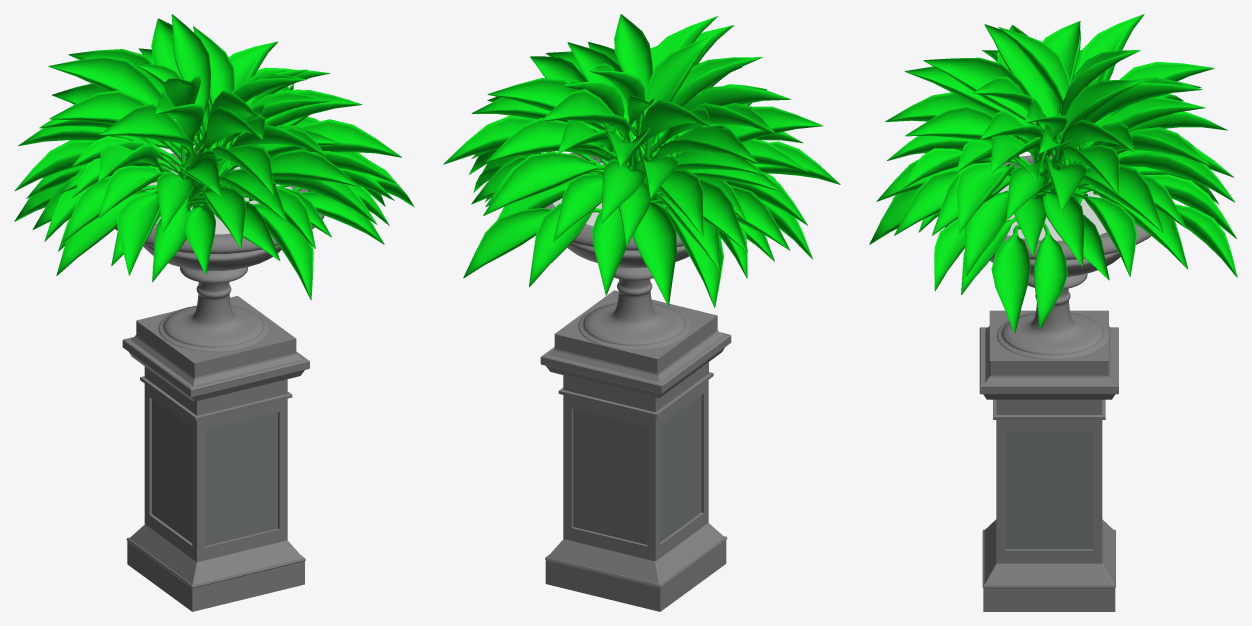
Rendered from uploads_files_3474482_potted+plant.fbx.
3 renders of one model, left to right at view 1: azimuth 30°, elevation 25°; view 2: azimuth 150°, elevation 25°; view 3: azimuth 270°, elevation 25°, orthographic.
Visible parts, largest first — view 1: plant, bottom, vase; view 2: plant, bottom, vase; view 3: plant, bottom, vase, ground.
Boxes of the visible parts, left/top/right/bottom form: plant: left=14, top=14, right=414, bottom=299; bottom: left=122, top=295, right=309, bottom=611; vase: left=115, top=150, right=324, bottom=351; plant: left=443, top=14, right=840, bottom=307; bottom: left=540, top=290, right=731, bottom=611; vase: left=544, top=152, right=690, bottom=349; plant: left=869, top=14, right=1237, bottom=333; bottom: left=979, top=310, right=1118, bottom=611; vase: left=945, top=155, right=1150, bottom=359; ground: left=999, top=185, right=1106, bottom=240.
Bounding box in the file's own units: 351 × 508 × 317.
